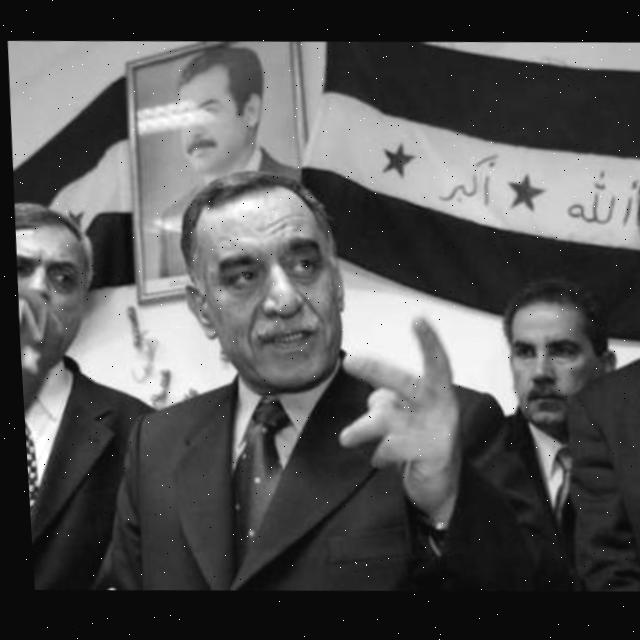face: (191, 192, 351, 391), (14, 197, 105, 360), (502, 302, 607, 437)
